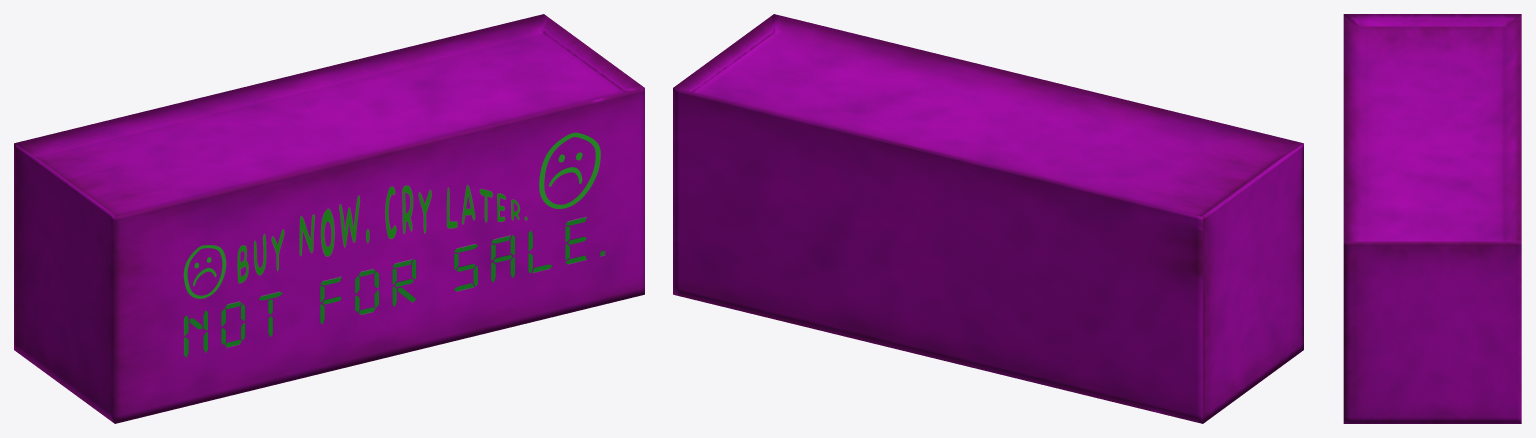
Rendered from buynowdisplayfixture.gltf.
The picture shows the model from 3 angles, left to right: view 1: azimuth 30°, elevation 25°; view 2: azimuth 150°, elevation 25°; view 3: azimuth 270°, elevation 25°; orthographic projection. The views are drawn at different scales.
Visible parts, largest first — view 1: MAD FACE G.001; view 2: MAD FACE G.001; view 3: MAD FACE G.001.
Boxes of the visible parts, bbox=[...] form: MAD FACE G.001: bbox=[14, 14, 644, 423]; MAD FACE G.001: bbox=[673, 14, 1303, 423]; MAD FACE G.001: bbox=[1343, 14, 1521, 423].
Bounding box in the file's own units: 6.07 × 2.26 × 2.13.
4 materials, 4 textured.
